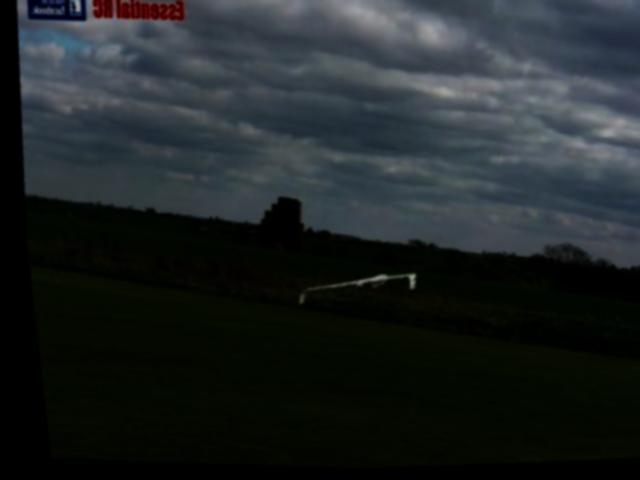flying wing: (285, 258, 418, 322)
